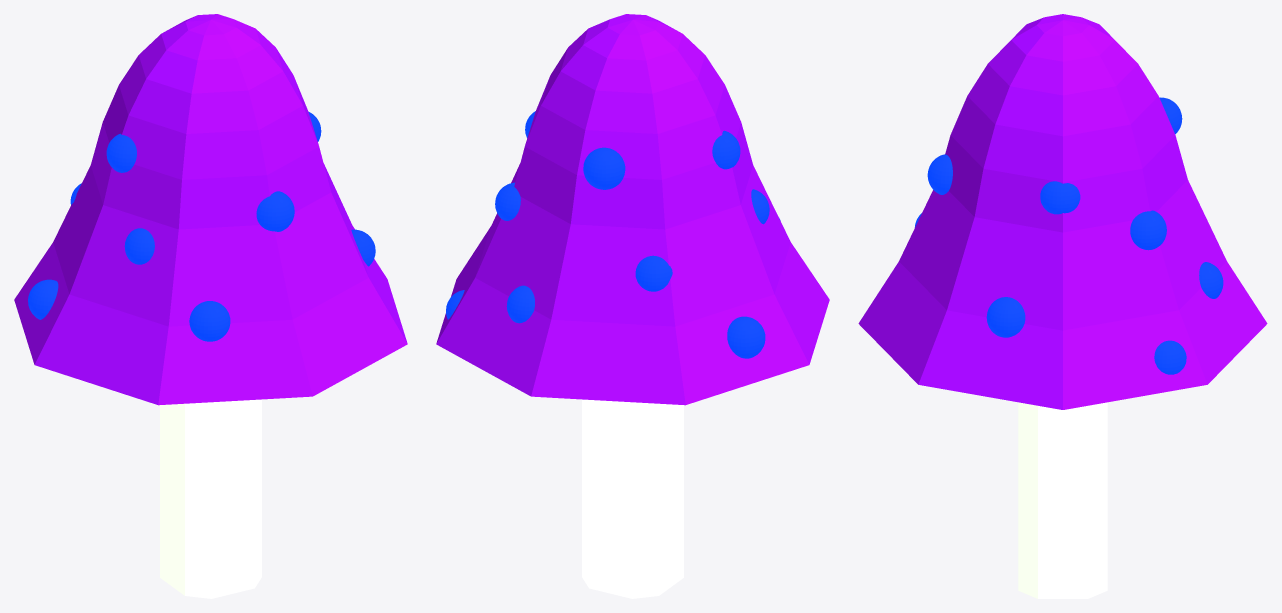
The model's file is Mushrooms_2.fbx.
3 views of the same model, side by side, from view 1: azimuth 30°, elevation 25°; view 2: azimuth 150°, elevation 25°; view 3: azimuth 270°, elevation 25° (orthographic).
Parts seen in each view (by area): view 1: Mushroom 2 -1; view 2: Mushroom 2 -1; view 3: Mushroom 2 -1.
Part boxes in pixels (x1,y1,x2,y2): Mushroom 2 -1: (14,14,407,598); Mushroom 2 -1: (436,14,829,598); Mushroom 2 -1: (858,14,1267,598).
Bounding box in the file's own units: 157 × 237 × 157.
